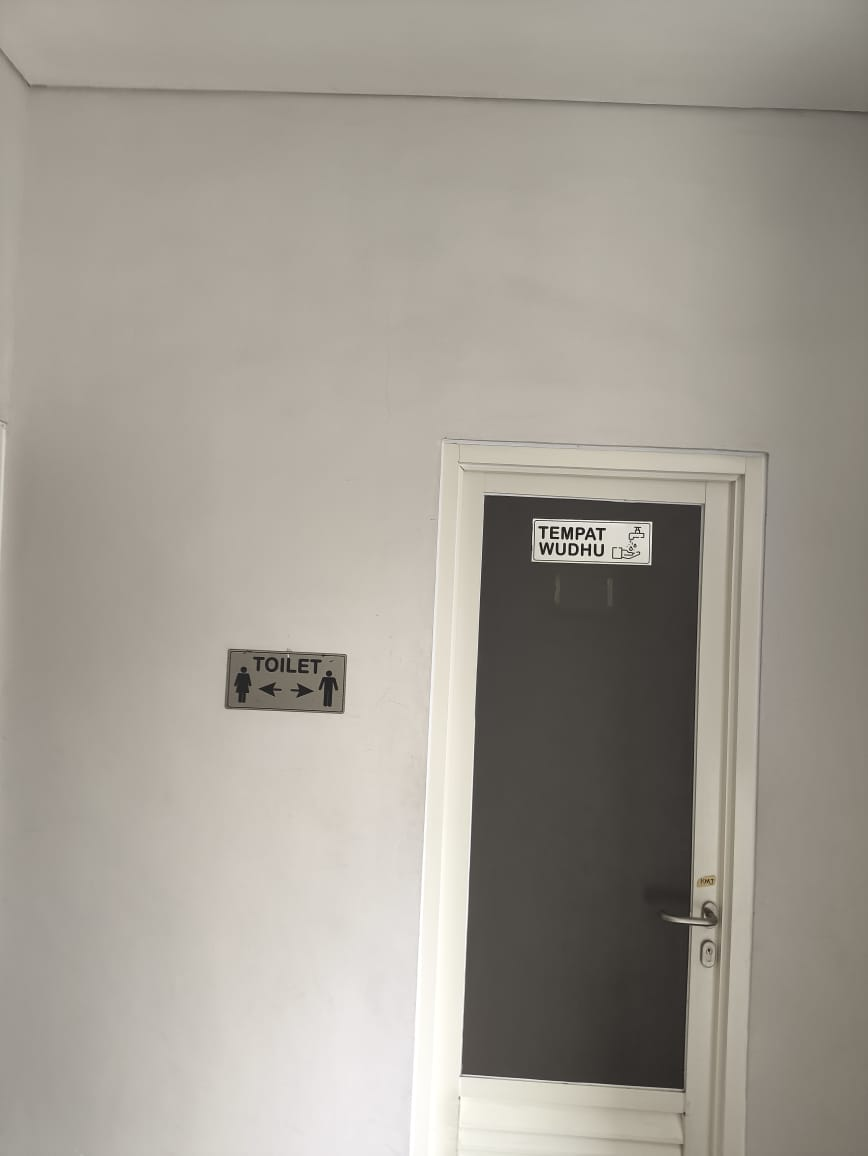tempat wudhu: (518, 506, 661, 572)
toilet: (205, 634, 356, 721)
